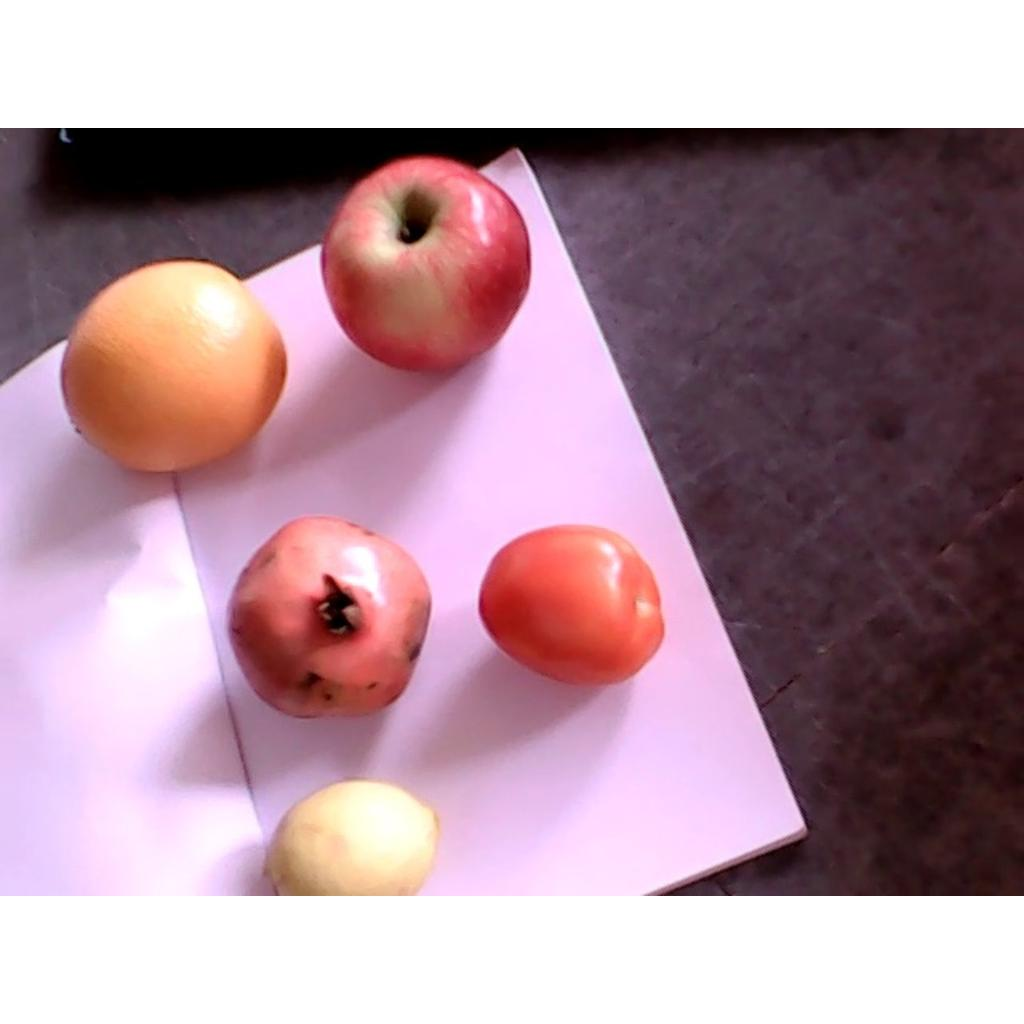apple: (320, 157, 530, 371)
lemon: (263, 781, 441, 894)
orange: (62, 259, 288, 473)
pomegranate: (228, 514, 431, 718)
tomato: (478, 524, 665, 684)
